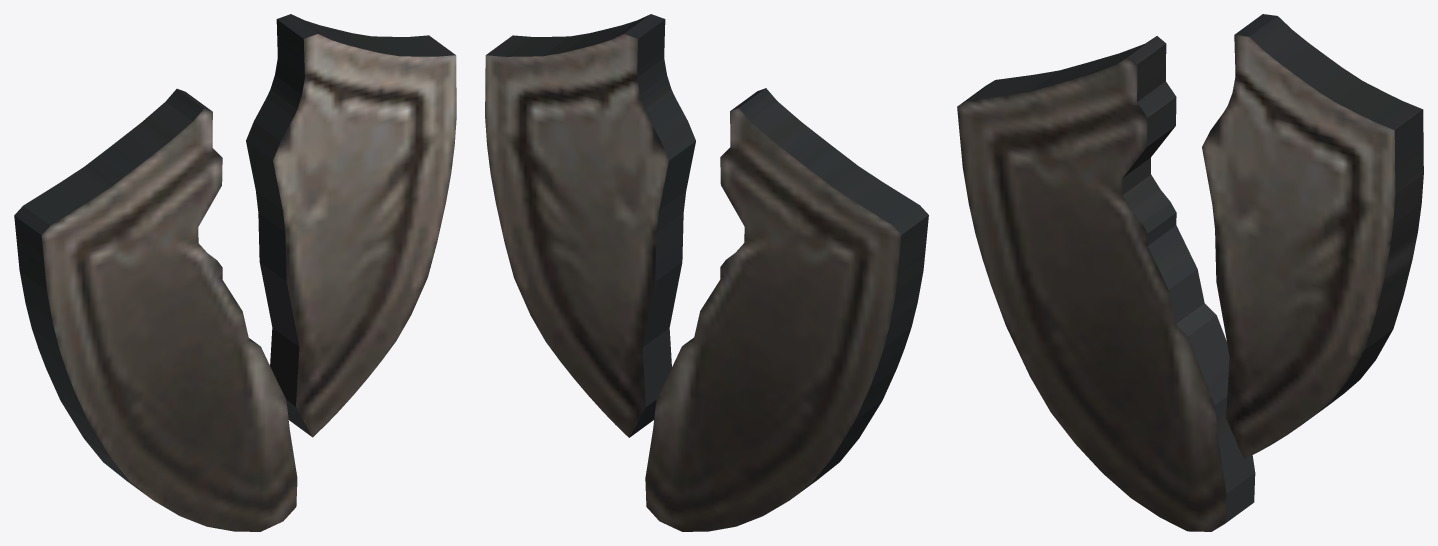
File: Durability_Played.glb
The picture shows the model from 3 angles, left to right: view 1: azimuth 30°, elevation 25°; view 2: azimuth 150°, elevation 25°; view 3: azimuth 330°, elevation 25°; orthographic projection. The views are drawn at different scales.
Visible parts, largest first — view 1: Circle; view 2: Circle; view 3: Circle.
Part boxes in pixels (left/top/right/bottom): Circle: left=14, top=14, right=456, bottom=531; Circle: left=485, top=14, right=928, bottom=531; Circle: left=957, top=14, right=1423, bottom=531.
Bounding box in the file's own units: 1.33 × 1.48 × 0.1531.
2 materials, 2 textured.
